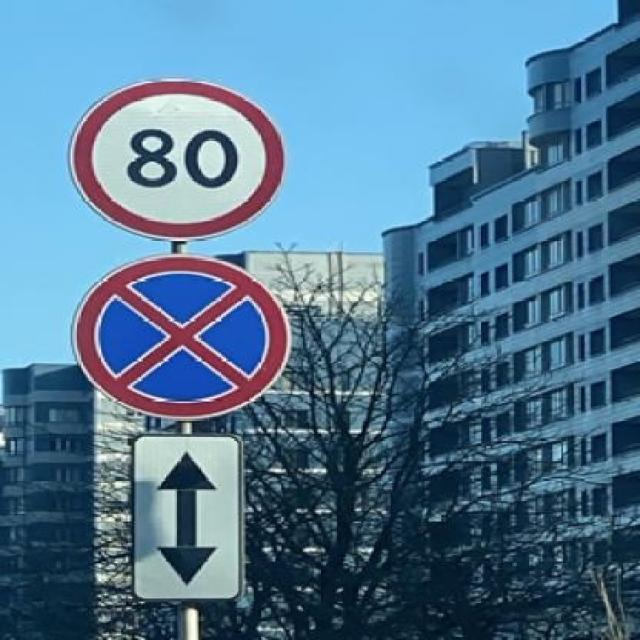forb_speed_over_80: (75, 83, 284, 240)
